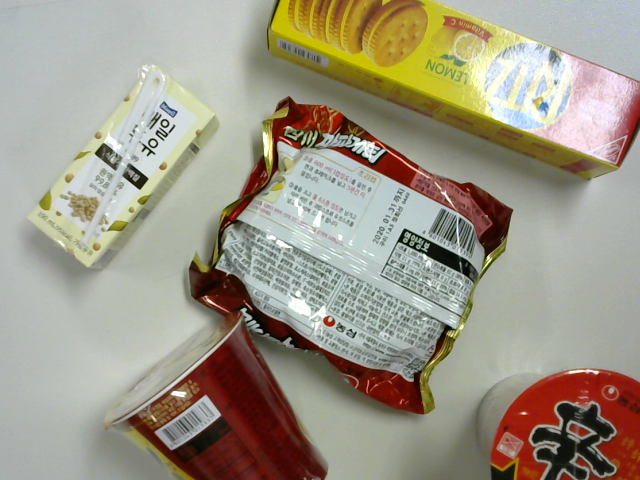99.89_Soymilk: (33, 68, 213, 262)
Raccoon: (109, 312, 330, 480)
Ritz_Remon_96g: (265, 8, 640, 180)
Sichuan_Chapaghetti: (193, 100, 511, 416)
Sinramen_small: (489, 366, 640, 475)
